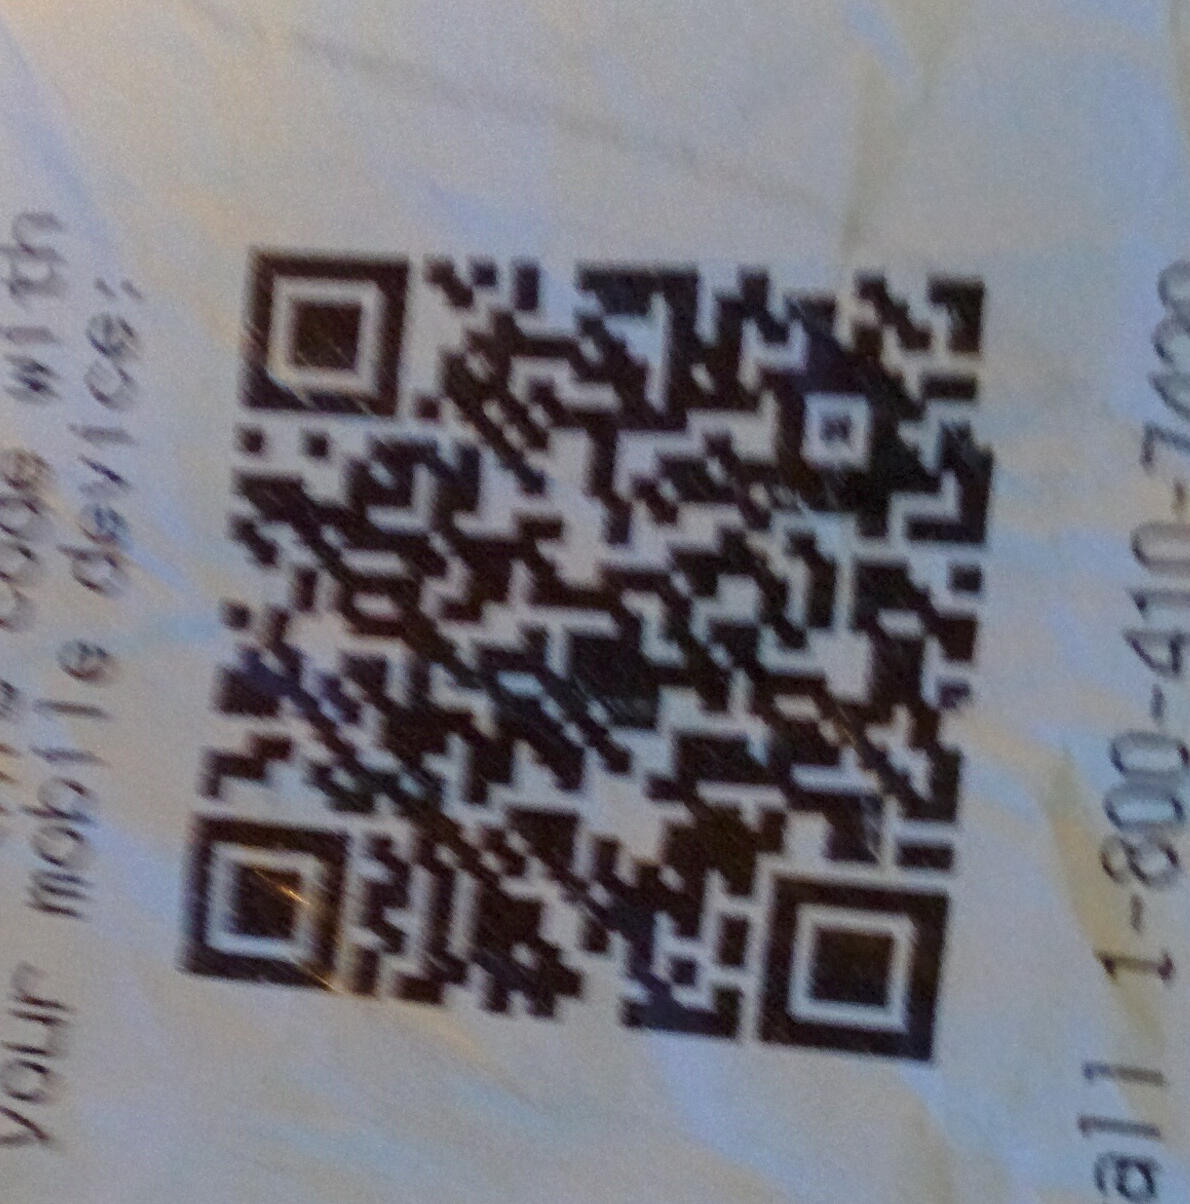QR_CODE: (151, 197, 1001, 1093)
